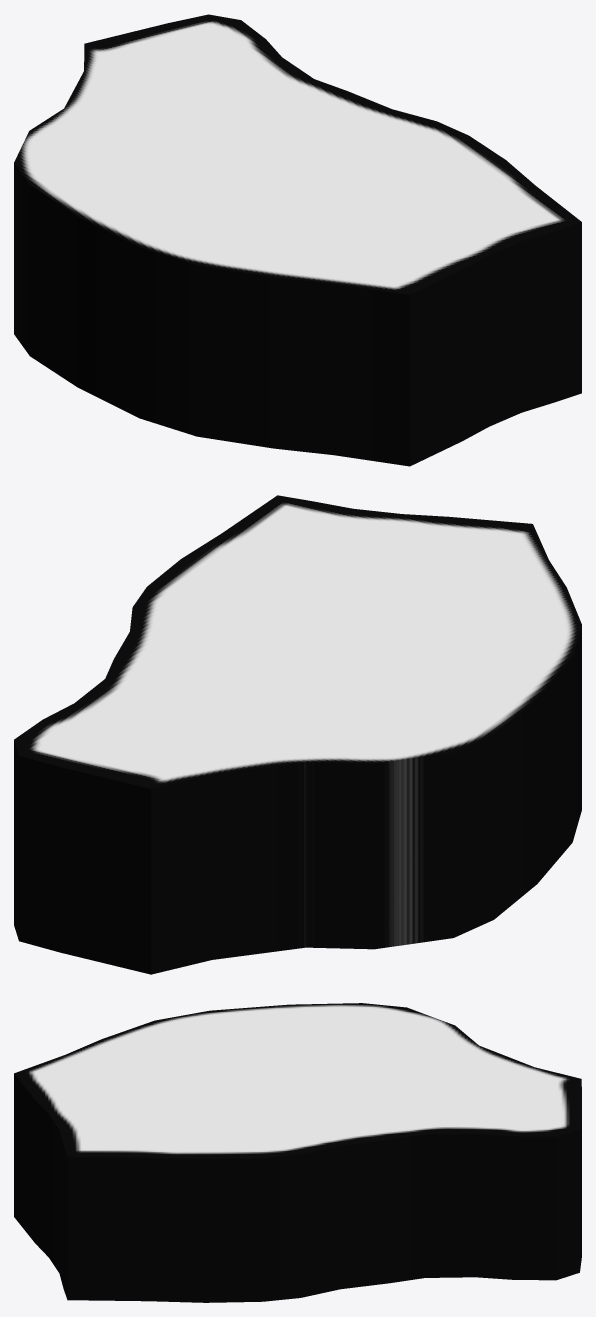
3 views of the same model, one above another, from view 1: azimuth 30°, elevation 25°; view 2: azimuth 150°, elevation 25°; view 3: azimuth 270°, elevation 25° (orthographic). The views are drawn at different scales.
Parts seen in each view (by area): view 1: polySurface12; view 2: polySurface12; view 3: polySurface12.
Part boxes in pixels (x1,y1,x2,y2): polySurface12: [14, 14, 581, 466]; polySurface12: [14, 495, 581, 974]; polySurface12: [14, 1003, 581, 1302].
Bounding box in the file's own units: 1.17 × 0.5 × 1.79.
